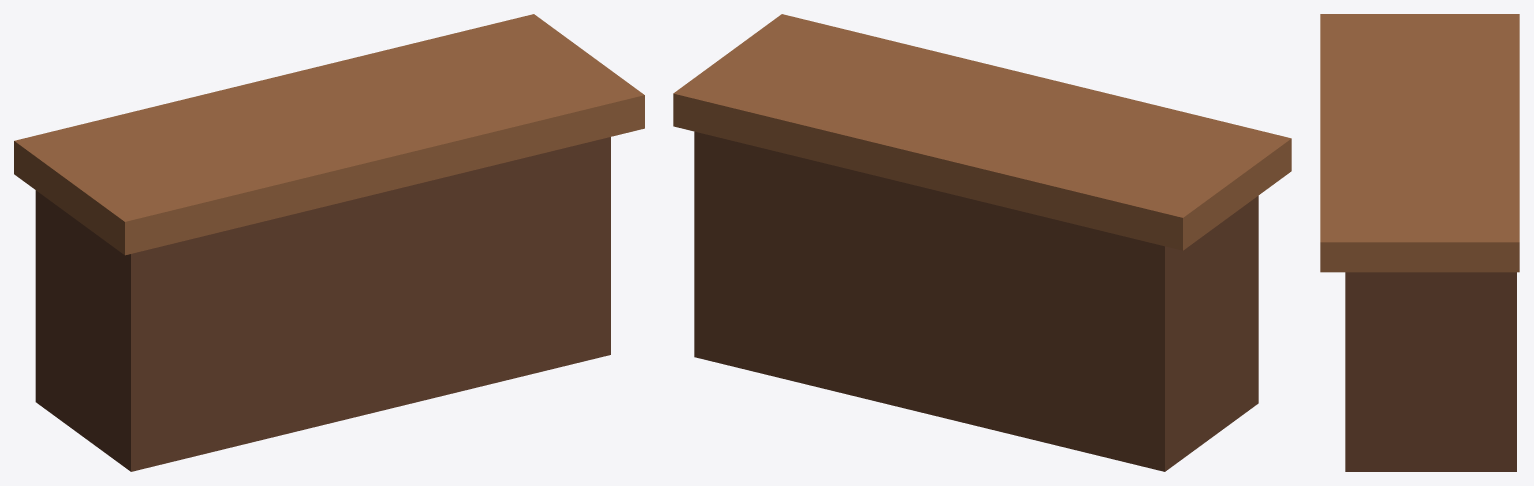
The model's file is wk_place_market_counter_v01.glb.
The picture shows the model from 3 angles, left to right: view 1: azimuth 30°, elevation 25°; view 2: azimuth 150°, elevation 25°; view 3: azimuth 270°, elevation 25°; orthographic projection. The views are drawn at different scales.
Parts seen in each view (by area): view 1: GEO_CounterBase, GEO_CounterTop; view 2: GEO_CounterBase, GEO_CounterTop; view 3: GEO_CounterTop, GEO_CounterBase.
Boxes of the visible parts, x1=… form: GEO_CounterBase: x1=35, y1=137, x2=610, y2=471; GEO_CounterTop: x1=14, y1=14, x2=644, y2=255; GEO_CounterBase: x1=694, y1=131, x2=1258, y2=471; GEO_CounterTop: x1=673, y1=14, x2=1291, y2=250; GEO_CounterTop: x1=1320, y1=14, x2=1519, y2=272; GEO_CounterBase: x1=1345, y1=272, x2=1516, y2=471.
Size of the model in its own units: 1.95 by 0.95 by 0.72.
